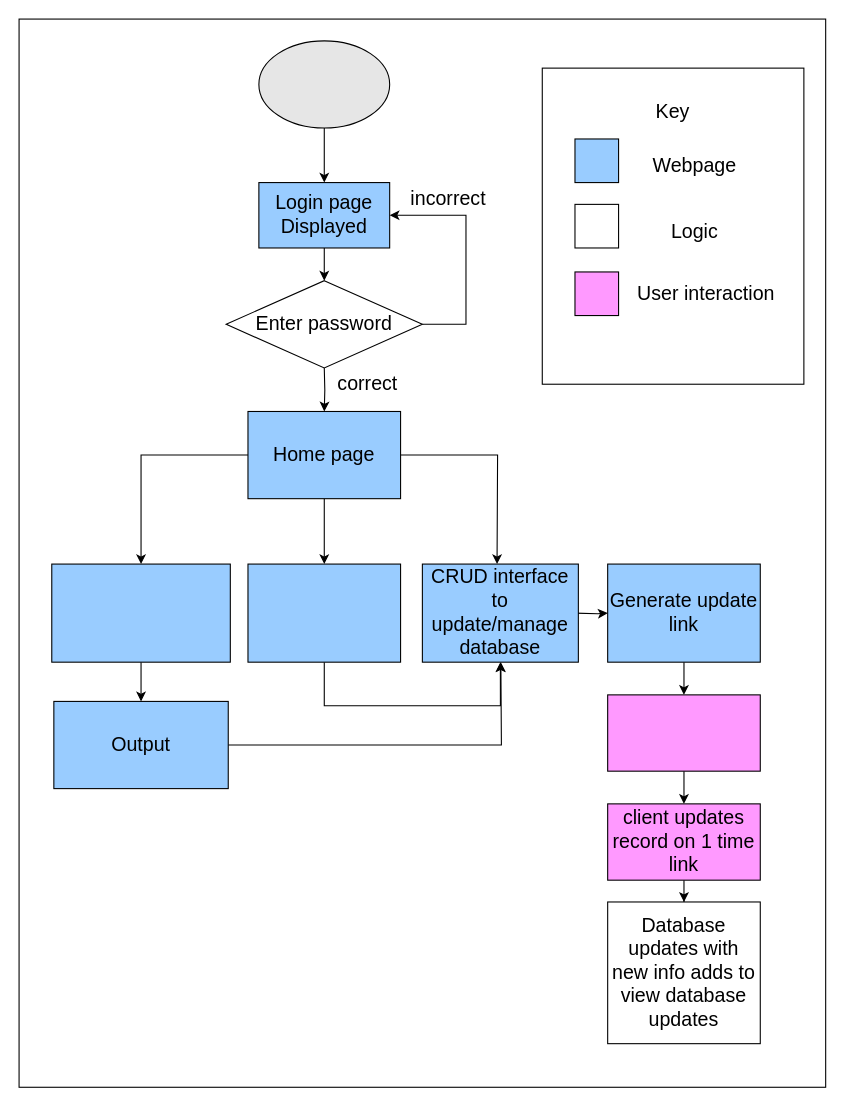
This 845x1106 diagram has some shape labels left out. The shapes that lost their labels are listed below. From the top down, each one's box as (x1, y1, x2, y2) in pixels, then its label:
(258, 40, 390, 128): Start
(51, 563, 230, 662): Create consultation list
(247, 563, 401, 662): View database updates from 1 time links
(607, 694, 760, 771): Send email to client
